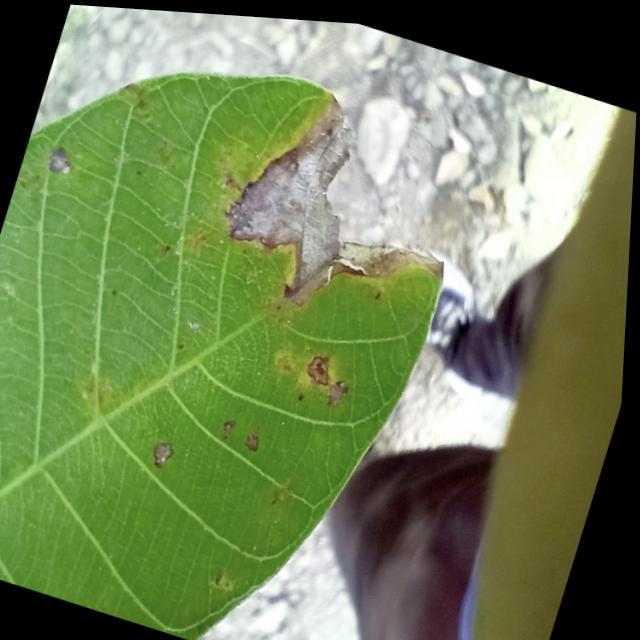Leaf-Blight: (212, 75, 482, 336)
